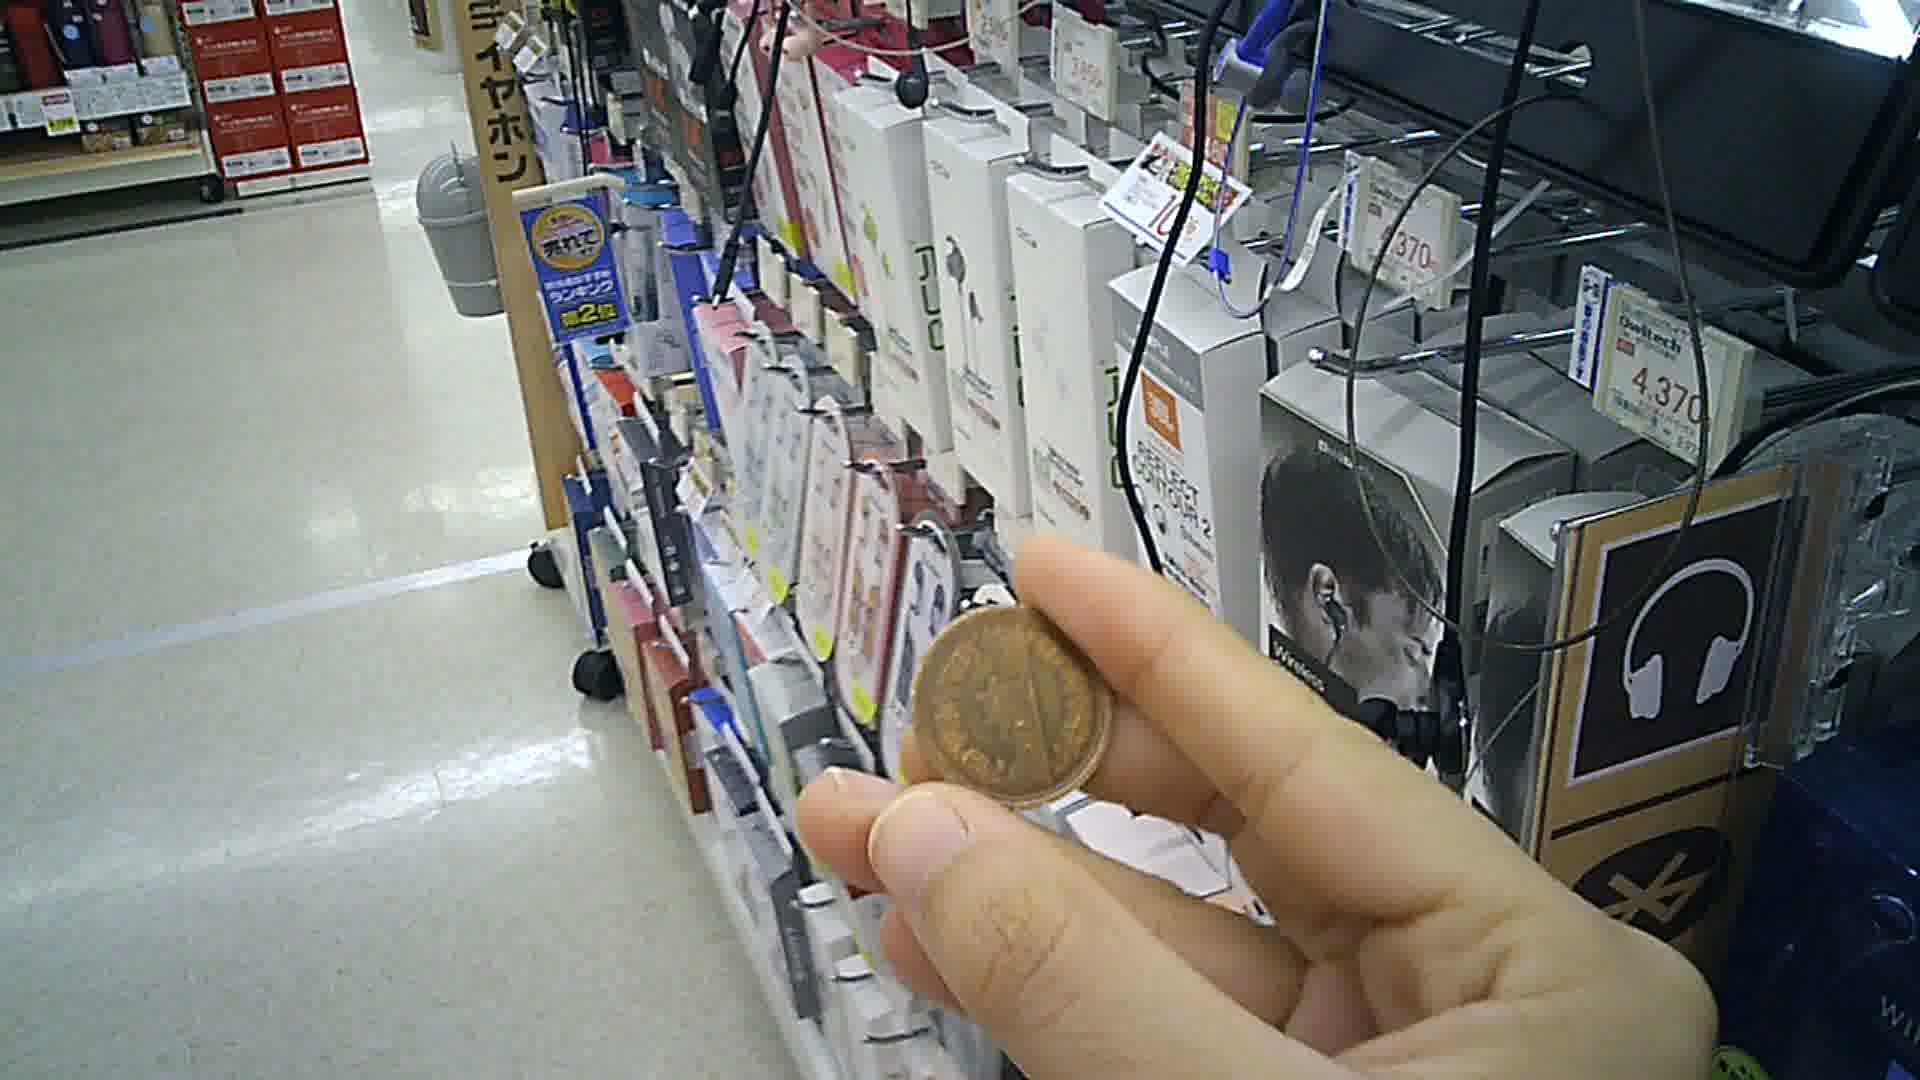10 Yen: (915, 597, 1125, 800)
